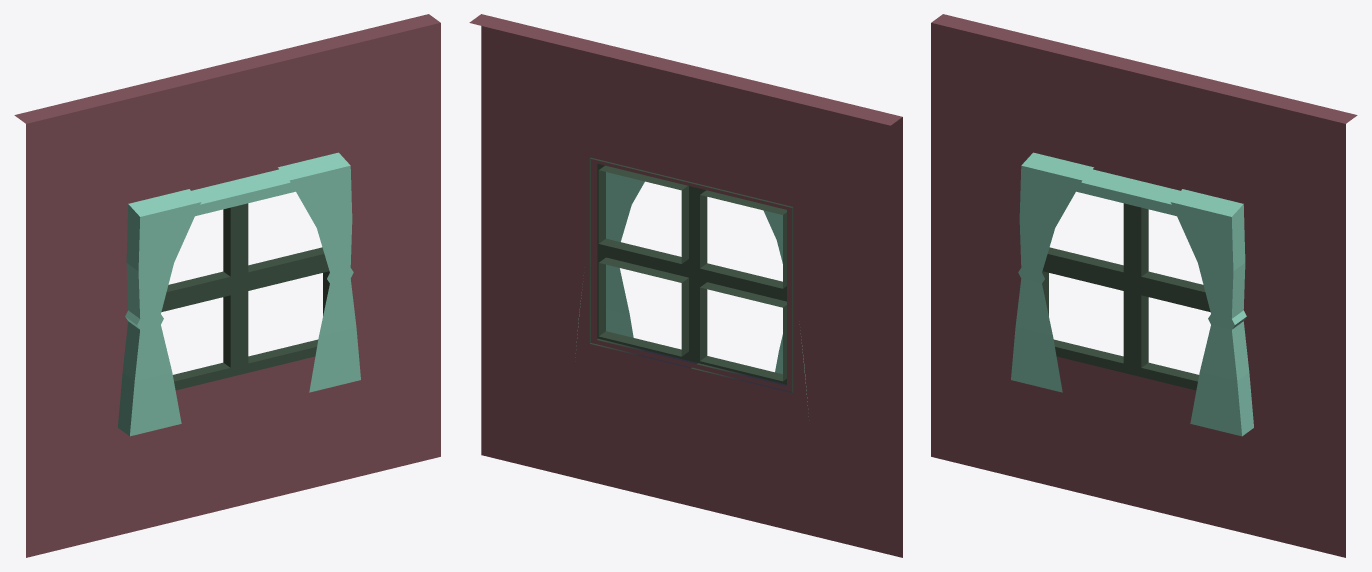
File: Finestra_Muro_2.fbx
The picture shows the model from 3 angles, left to right: view 1: azimuth 30°, elevation 25°; view 2: azimuth 150°, elevation 25°; view 3: azimuth 330°, elevation 25°; orthographic projection.
Visible parts, largest first — view 1: Cube.031, Plane.005, Cube.030; view 2: Cube.031, Cube.030, Plane.005; view 3: Cube.031, Plane.005, Cube.030.
Boxes of the visible parts, bbox=[...] form: Cube.031: bbox=[14, 14, 440, 557]; Plane.005: bbox=[118, 152, 360, 436]; Cube.030: bbox=[161, 203, 329, 390]; Cube.031: bbox=[469, 14, 902, 557]; Cube.030: bbox=[589, 157, 793, 392]; Plane.005: bbox=[575, 172, 808, 416]; Cube.031: bbox=[931, 14, 1357, 557]; Plane.005: bbox=[1011, 152, 1253, 436]; Cube.030: bbox=[1042, 203, 1210, 390].
Bounding box in the file's own units: 400 × 400 × 40.23.
